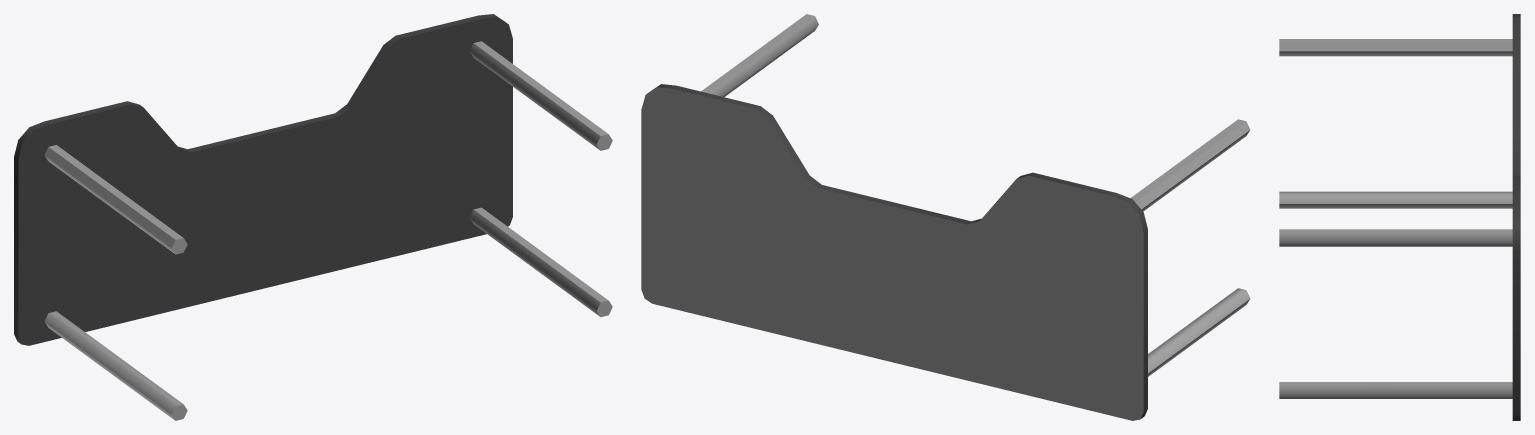
File: desk-c.glb
3 renders of one model, left to right at view 1: azimuth 30°, elevation 25°; view 2: azimuth 150°, elevation 25°; view 3: azimuth 270°, elevation 25°, orthographic. The views are drawn at different scales.
Visible parts, largest first — view 1: office_table_001; view 2: office_table_001; view 3: office_table_001.
Part boxes in pixels (x1,y1,x2,y2): office_table_001: [14, 14, 612, 420]; office_table_001: [641, 14, 1250, 420]; office_table_001: [1279, 14, 1520, 420].
Bounding box in the file's own units: 1.58 × 0.663 × 0.7294.
1 material, 1 textured.
